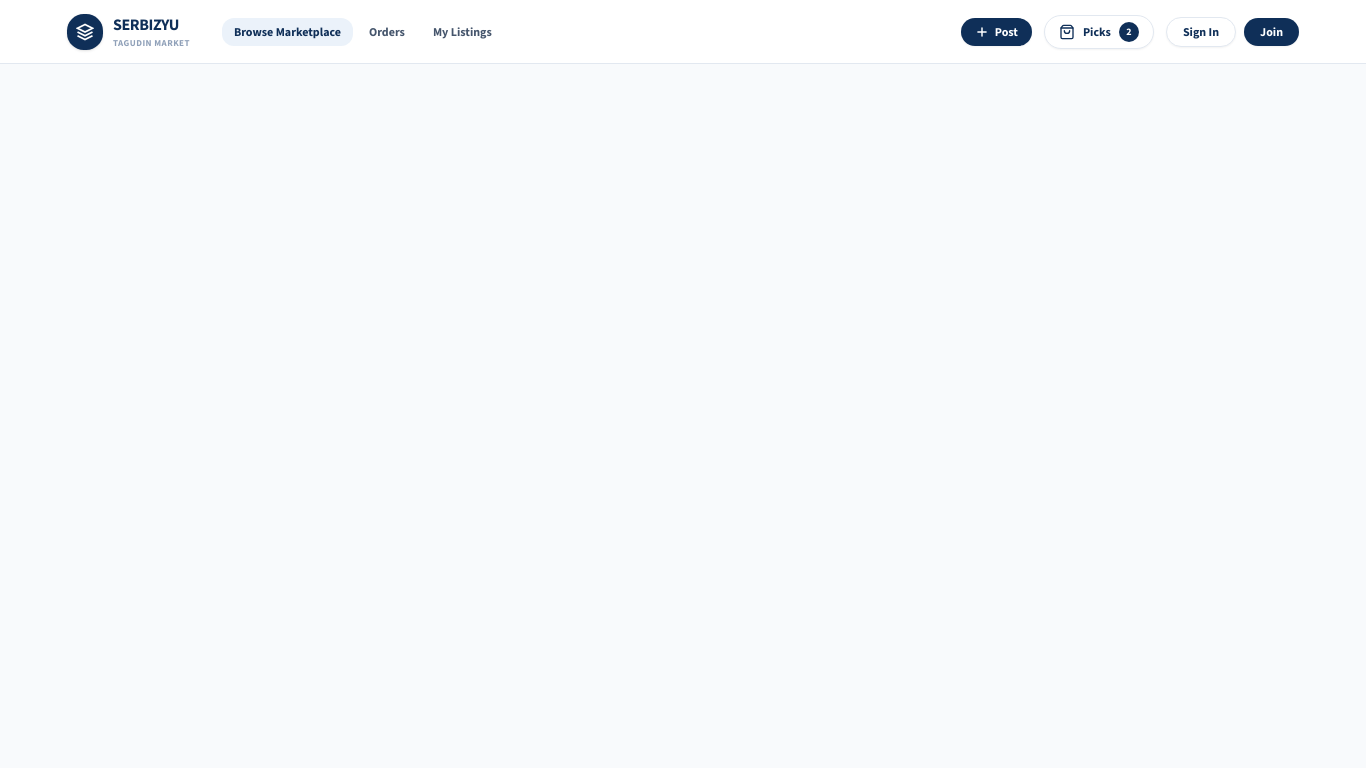
DesktopGlobalNav dynamic auth state › toggles PicksDrawer open and closed on non-browse pages when clicking Picks
expect the text "Citizen Picks" is not shown: met
Note: Click Picks in navbar to toggle open
Click the button with aria-label "View citizen picks": point(1099, 32) [1044, 14, 1154, 48]
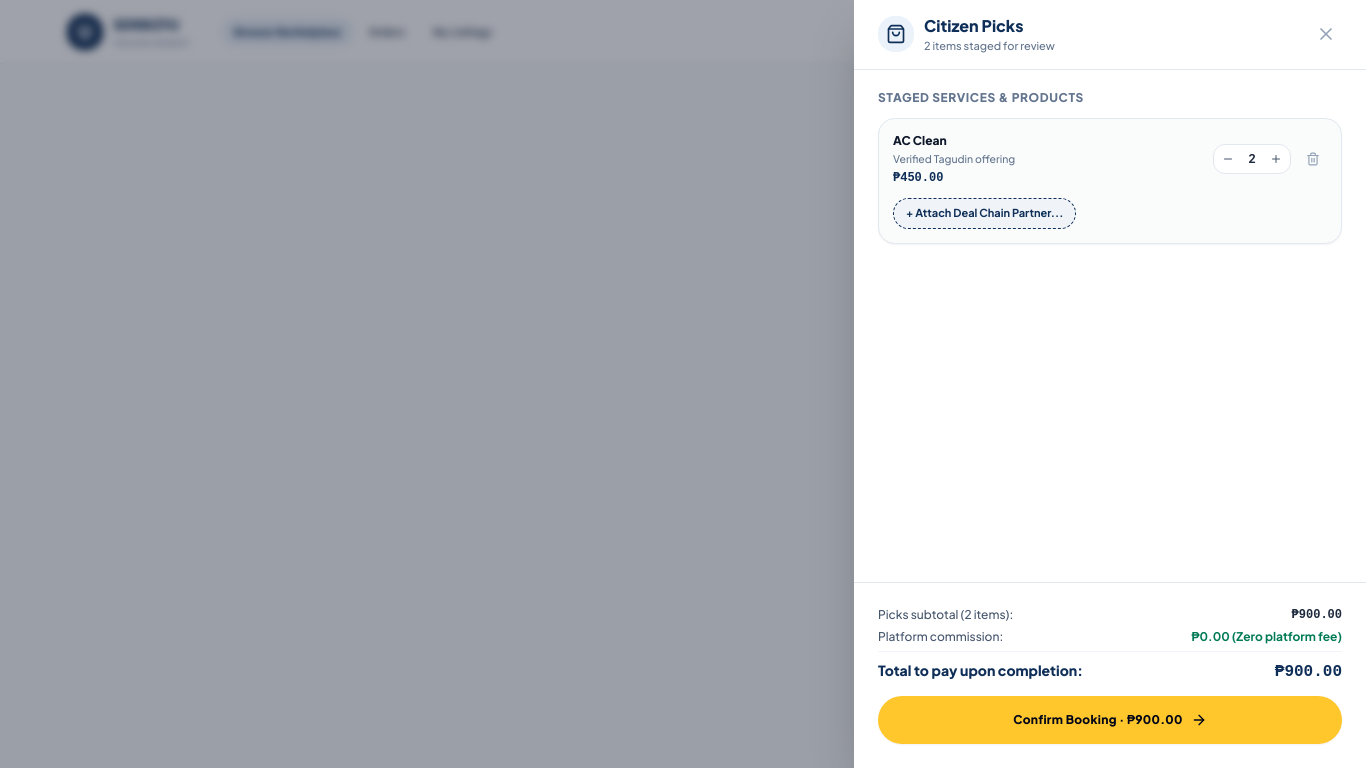
expect the heading "Citizen Picks" is shown: met, box [924, 15, 1024, 36]
expect the heading "AC Clean" is shown: met, box [893, 132, 947, 148]
Note: Click close button on drawer
Click the button named "Close drawer": point(1326, 34) [1310, 18, 1342, 50]
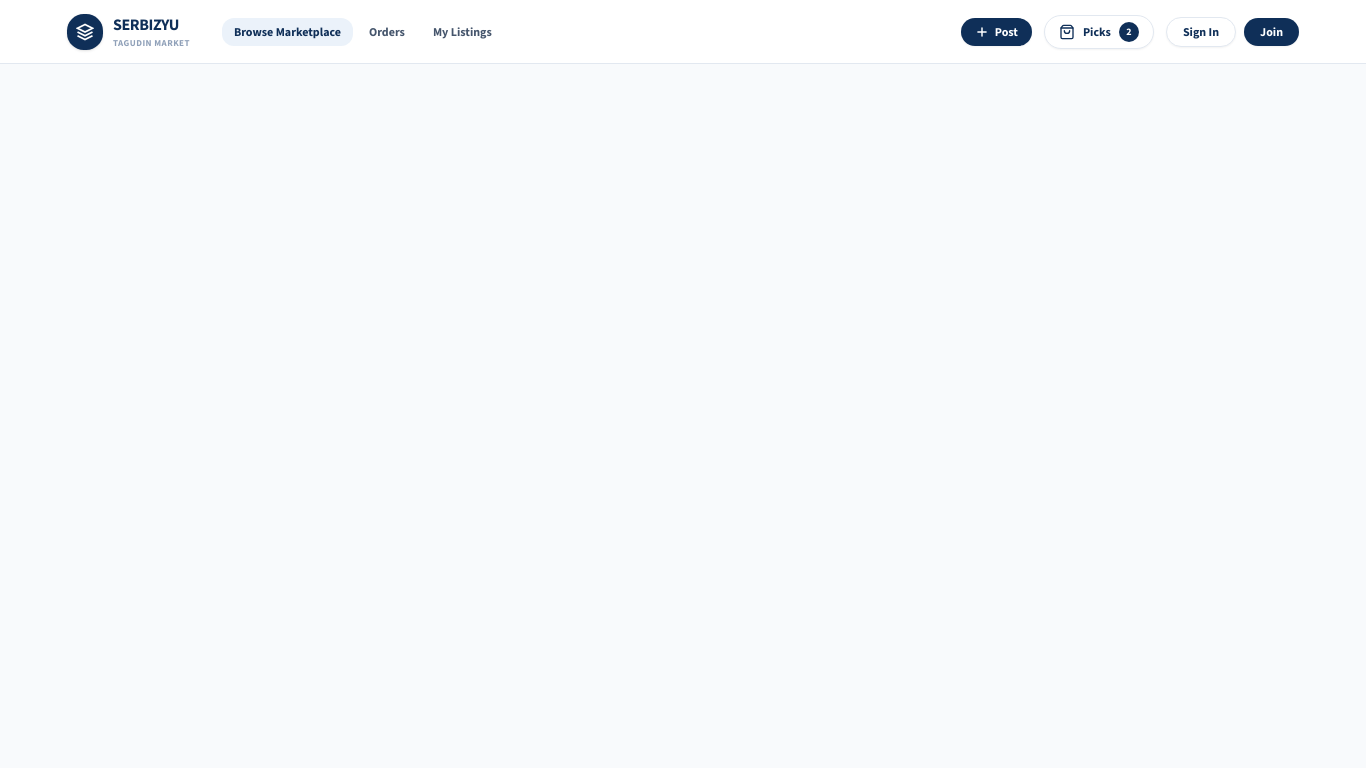
expect the heading "Citizen Picks" is gone: met
